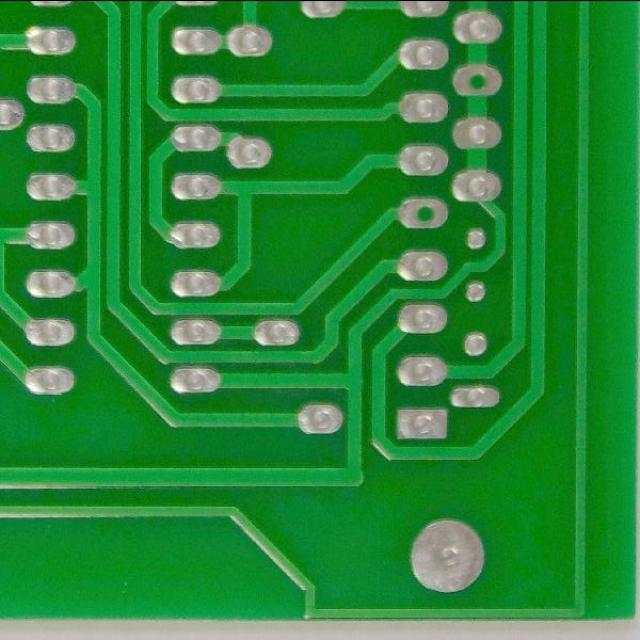Missing_Hole: (447, 58, 508, 102), (394, 193, 453, 234)
